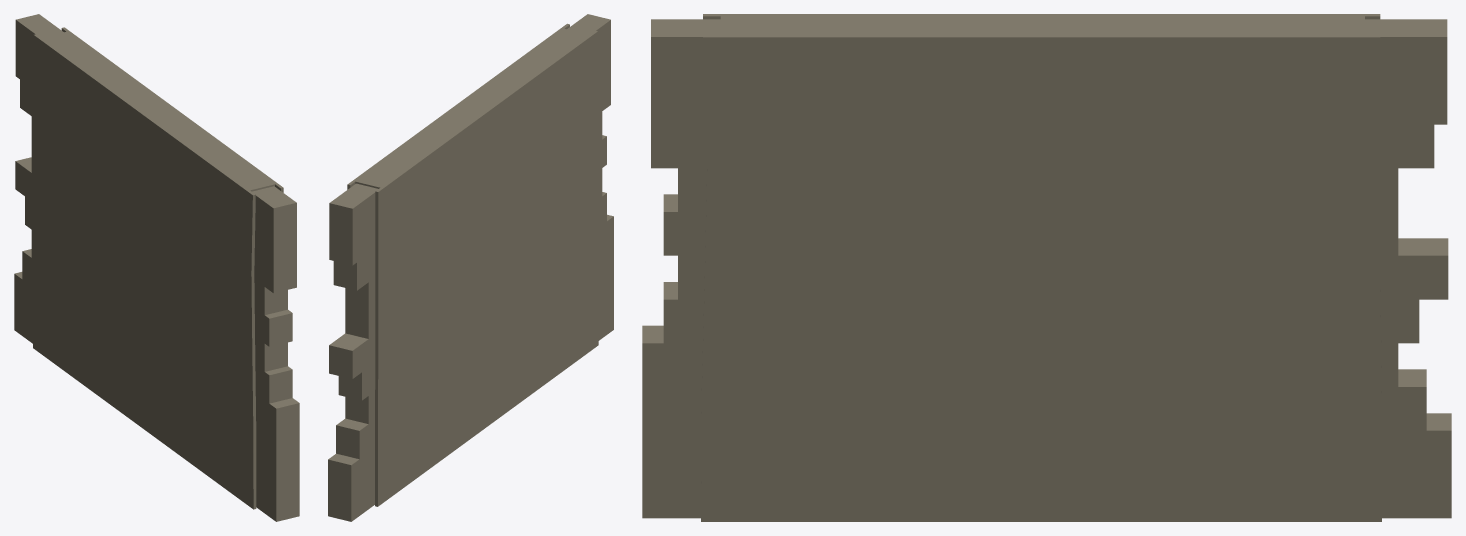
The model's file is walls3_LP.fbx.
3 renders of one model, left to right at view 1: azimuth 30°, elevation 25°; view 2: azimuth 150°, elevation 25°; view 3: azimuth 270°, elevation 25°, orthographic. The views are drawn at different scales.
Parts seen in each view (by area): view 1: wall8_LP, wall9_LP, wall7_LP; view 2: wall8_LP, wall7_LP, wall9_LP; view 3: wall8_LP, wall7_LP, wall9_LP.
Boxes of the visible parts, left/top/right/bottom form: wall8_LP: left=33, top=27, right=283, bottom=509; wall9_LP: left=252, top=186, right=299, bottom=521; wall7_LP: left=14, top=14, right=63, bottom=343; wall8_LP: left=347, top=23, right=598, bottom=506; wall7_LP: left=328, top=183, right=377, bottom=521; wall9_LP: left=567, top=14, right=613, bottom=340; wall8_LP: left=701, top=14, right=1381, bottom=521; wall7_LP: left=1365, top=19, right=1451, bottom=518; wall9_LP: left=642, top=19, right=720, bottom=518.
Bounding box in the file's own units: 43.28 × 420 × 635.
